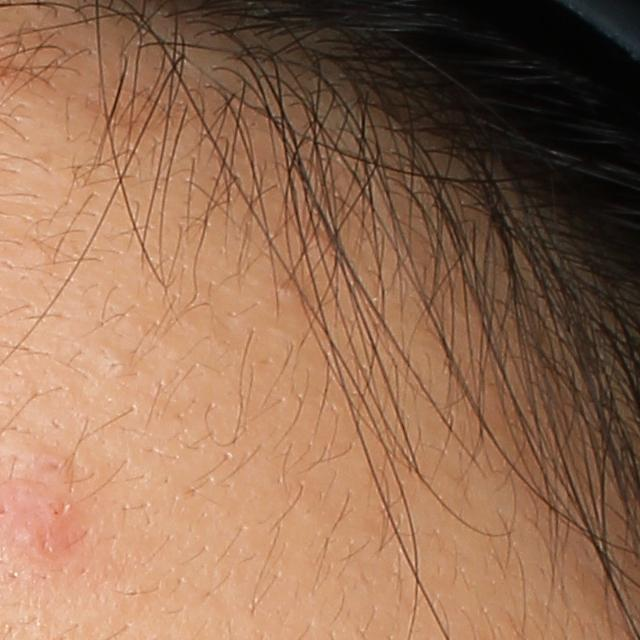comedo: (97, 347, 136, 379)
papule: (3, 480, 77, 560)
